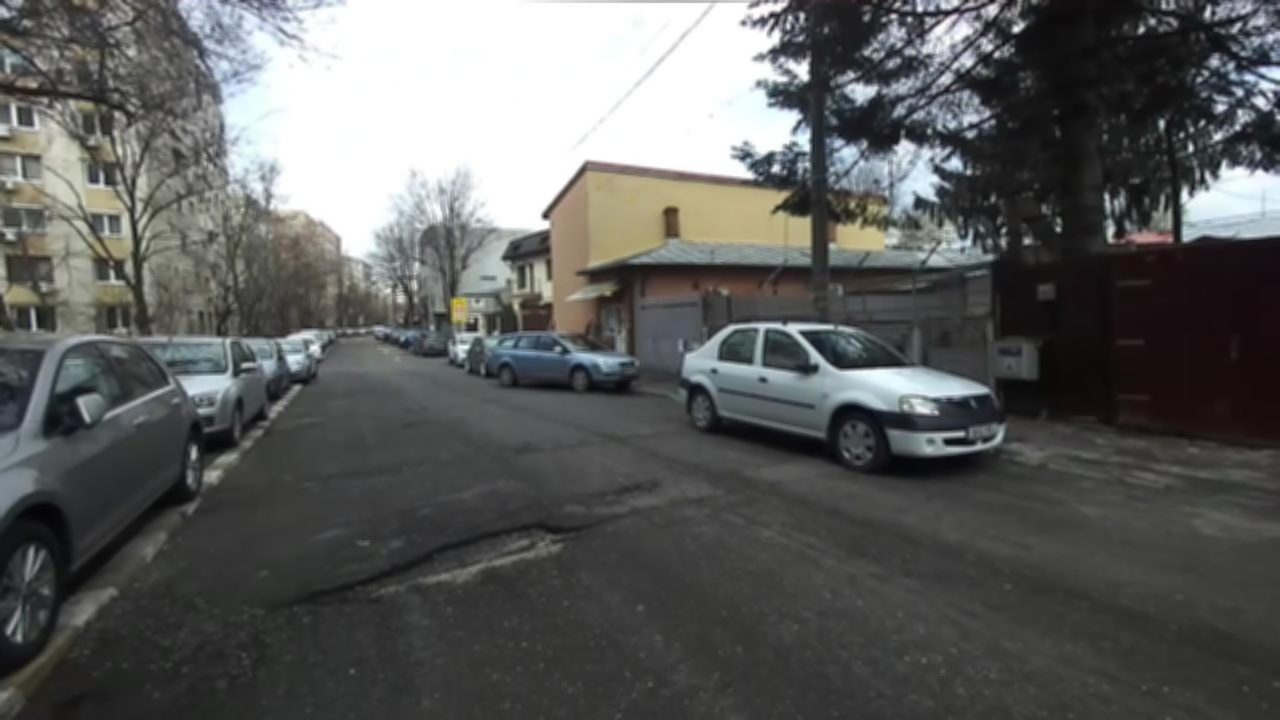pothole: (272, 518, 603, 622), (588, 474, 669, 504)
